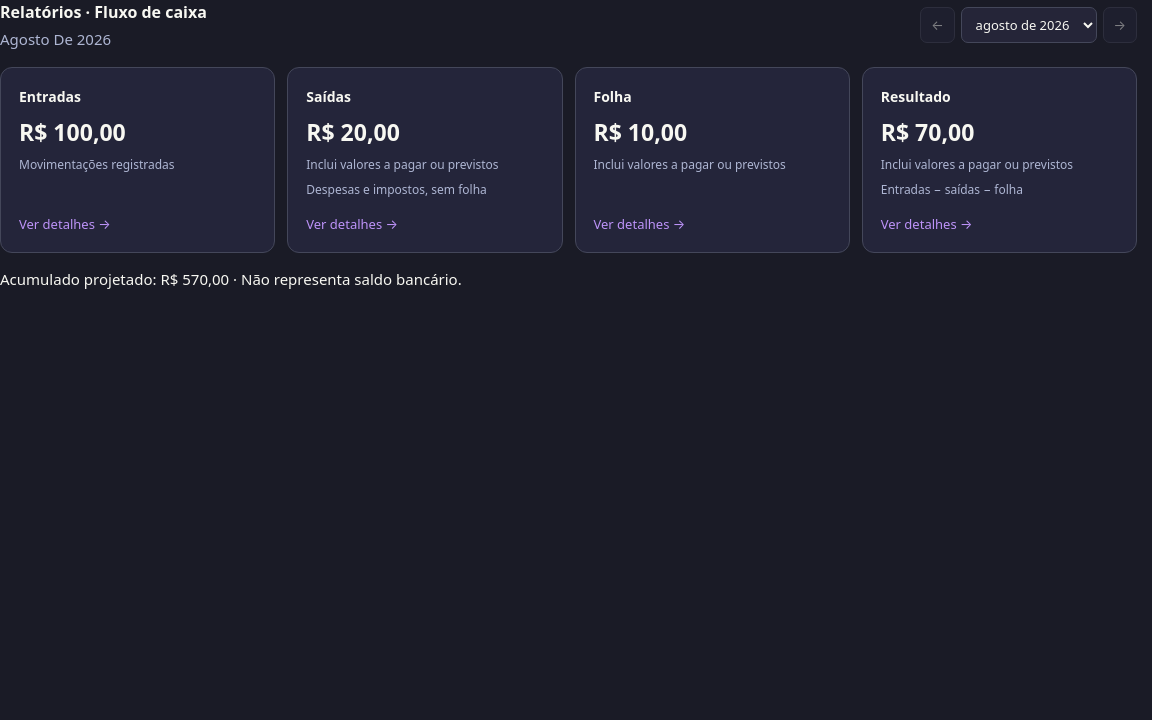
Test case: cards mensais e detalhe conciliam impostos, folha e resultado sem mutações
Click the button with aria-label "Ver saídas" at coordinates (425, 160), box top-left (287, 66), bottom-right (563, 253)
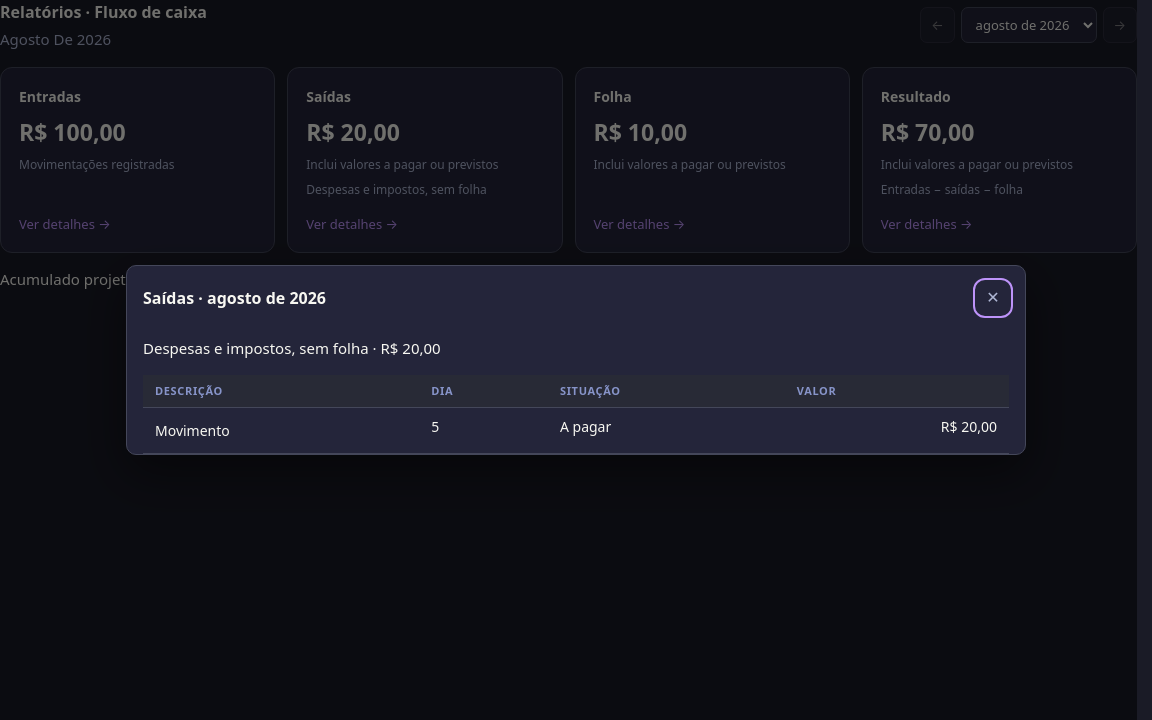
Expected: the dialog shows "20,00", top-left (380, 338), bottom-right (441, 358)
Expected: the dialog shows "A pagar", top-left (560, 417), bottom-right (611, 436)
Press Escape
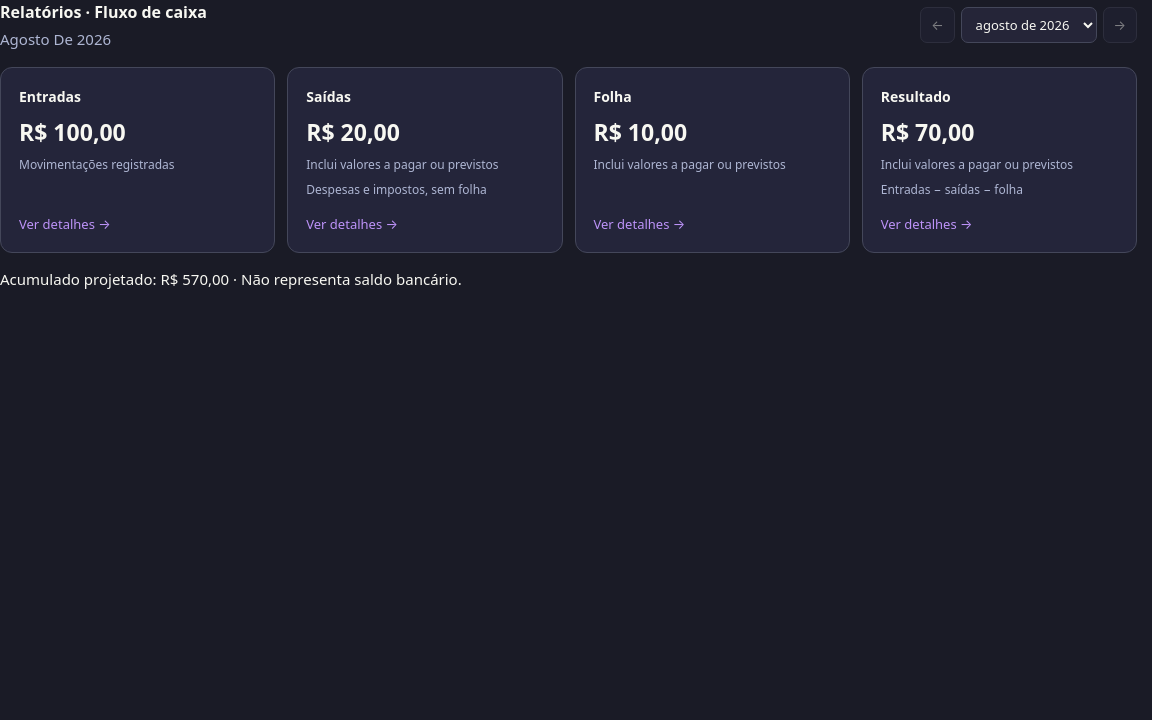
Click the button with aria-label "Ver resultado" at coordinates (999, 160), box top-left (862, 66), bottom-right (1137, 253)
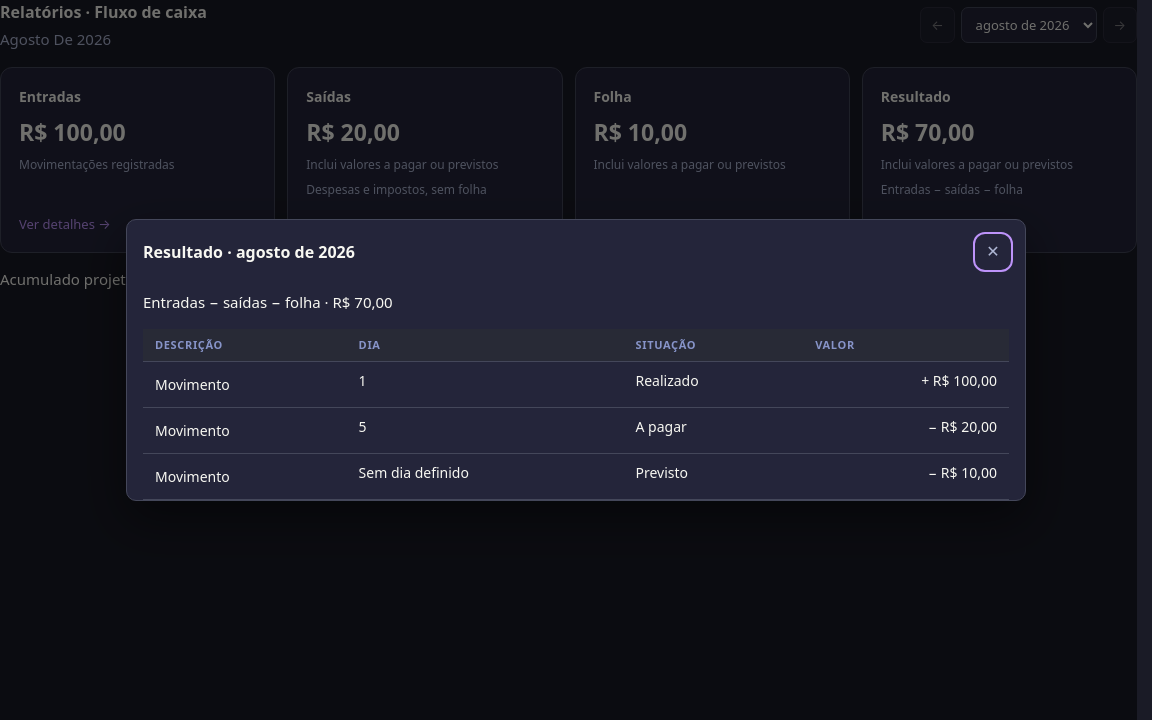
Expected: the dialog shows "70,00", top-left (332, 292), bottom-right (393, 312)
Expected: the number of rows is 4, top-left (143, 328), bottom-right (1009, 362); top-left (143, 362), bottom-right (1009, 408); top-left (143, 408), bottom-right (1009, 454); top-left (143, 454), bottom-right (1009, 500)
